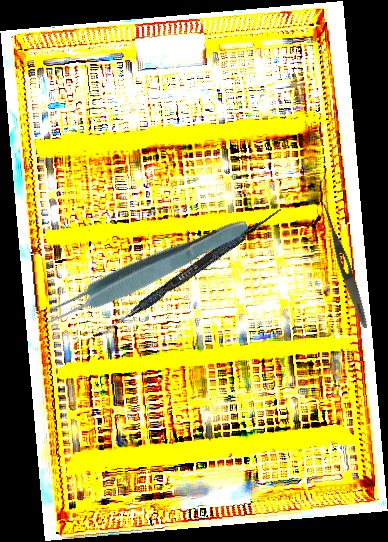Dressing Forceps: (317, 202, 372, 330)
Spatula Surgical: (92, 201, 284, 346)
Tissue Forceps: (37, 211, 253, 332)
